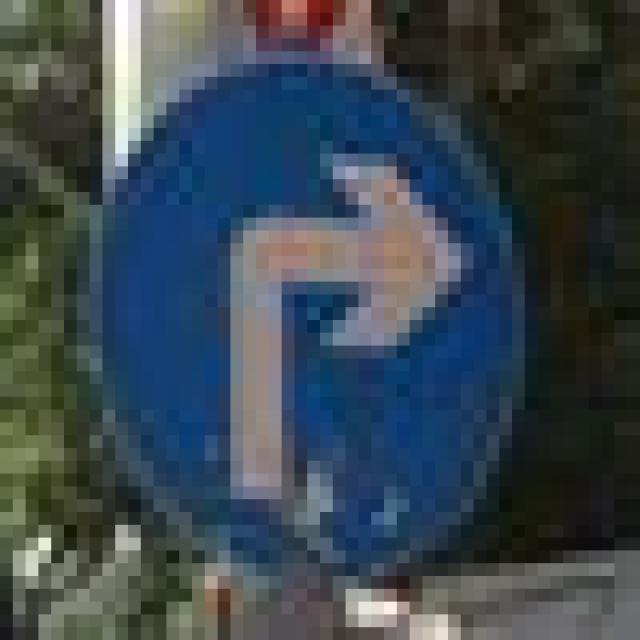railway_crossing: (77, 51, 512, 576)
